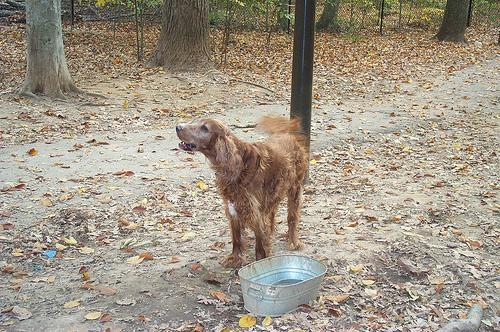Irish_setter: (174, 113, 310, 271)
